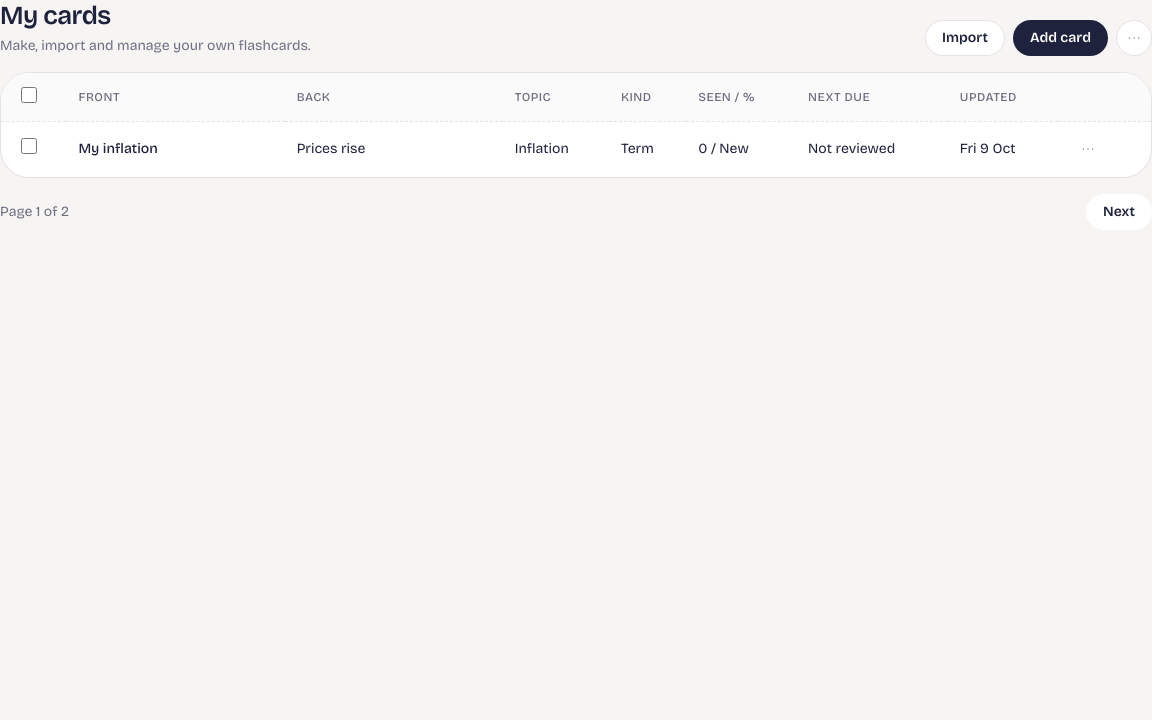
opens editing from the accessible front button
Step 1. Click the button "My inflation" → [176, 149], box [78,139,273,159]
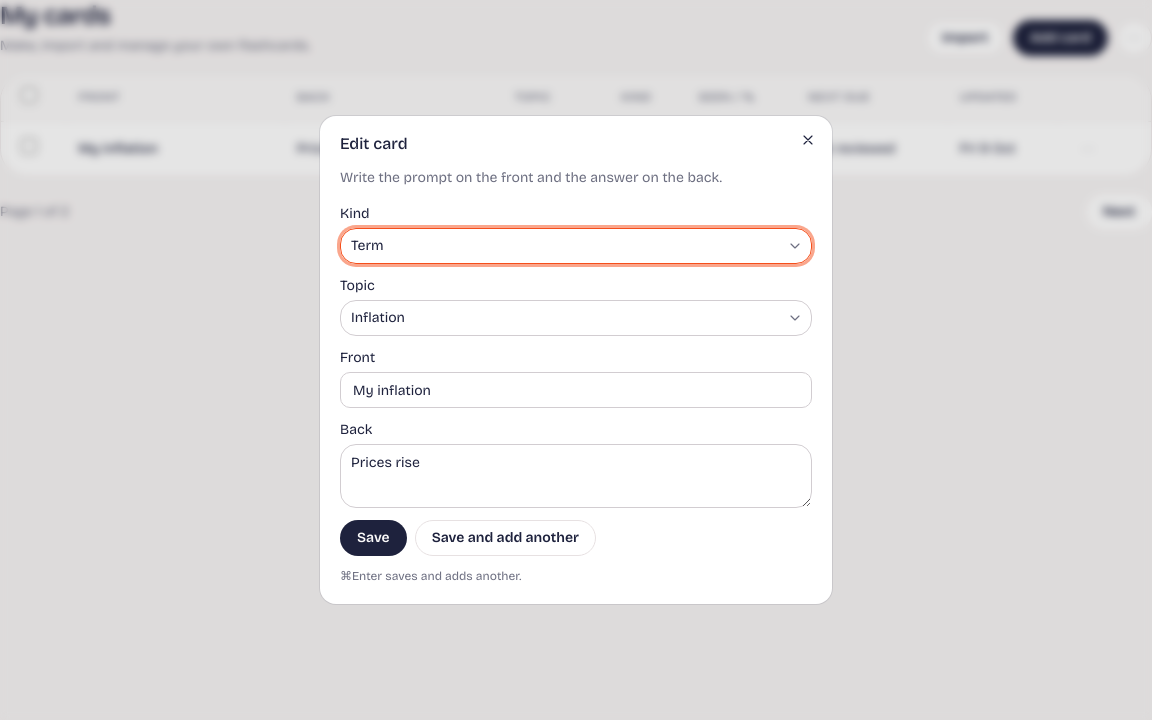
Check: the dialog is shown, box [320,116,832,604]
Check: the field labelled "Front" holds "My inflation", box [340,372,812,408]
Check: the dropdown named "Topic" reads "Inflation", box [340,300,812,336]
